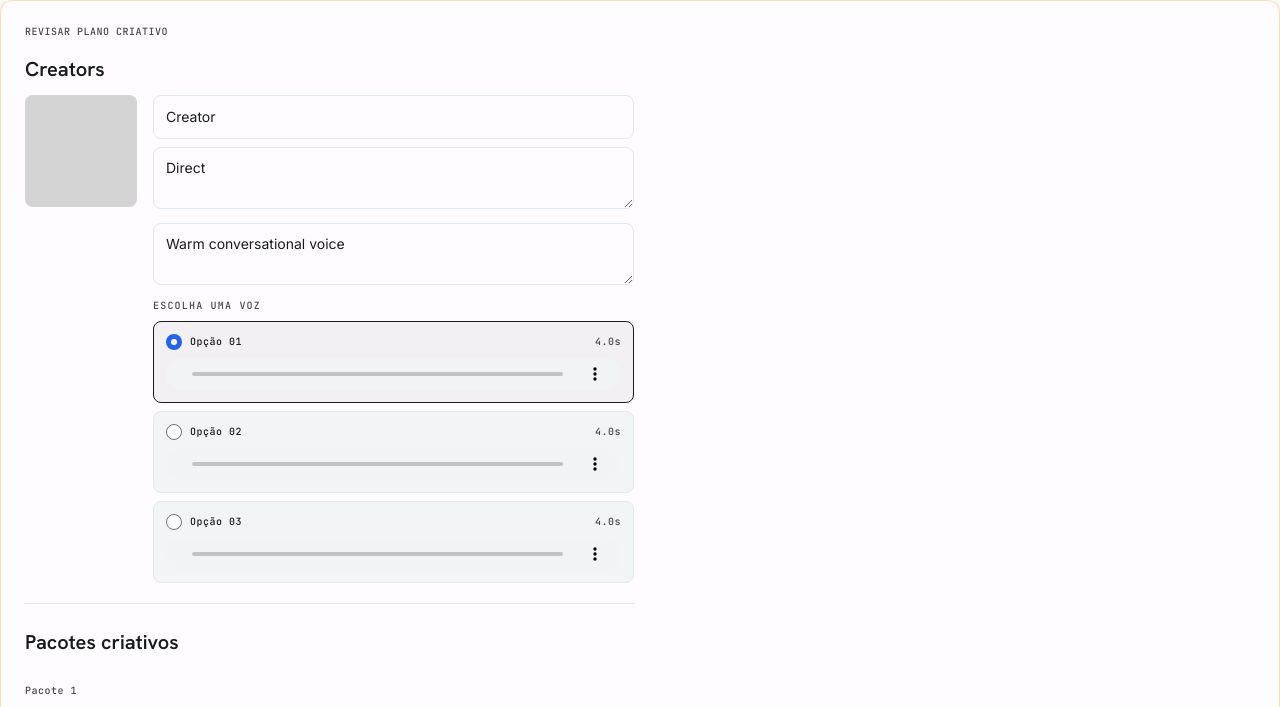
Test: CreativeReviewPanel › shows every voice candidate, blocks missing selection, and invalidates on brief edits
Step 1. Replace the text in the text box named "Brief de voz do creator 1" with "Deeper, slower voice" → (394, 254), box x1=153 y1=223 x2=634 y2=285
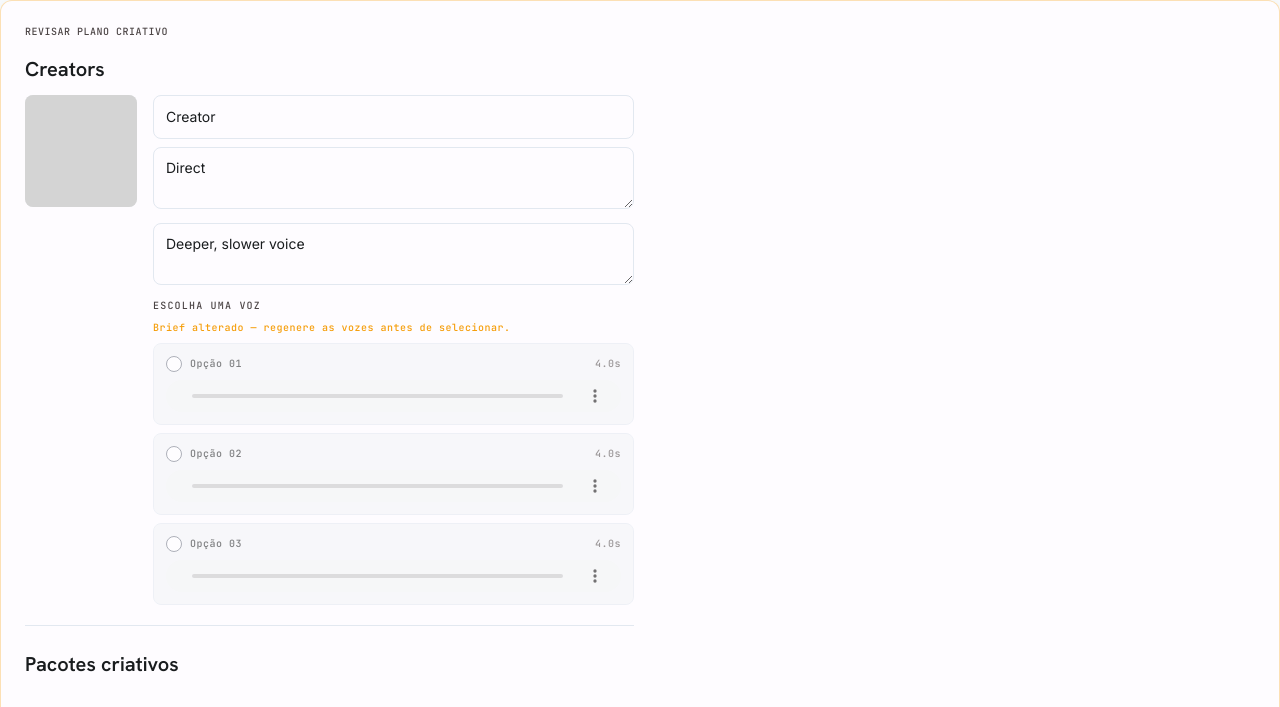
Result: the text "Brief alterado — regenere as vozes antes de selecionar." is shown at x1=153 y1=321 x2=510 y2=334
Result: the radio button labelled "Opção 01 4.0s" is disabled at x1=166 y1=356 x2=182 y2=372
Result: the radio button labelled "Opção 02 4.0s" is disabled at x1=166 y1=446 x2=182 y2=462
